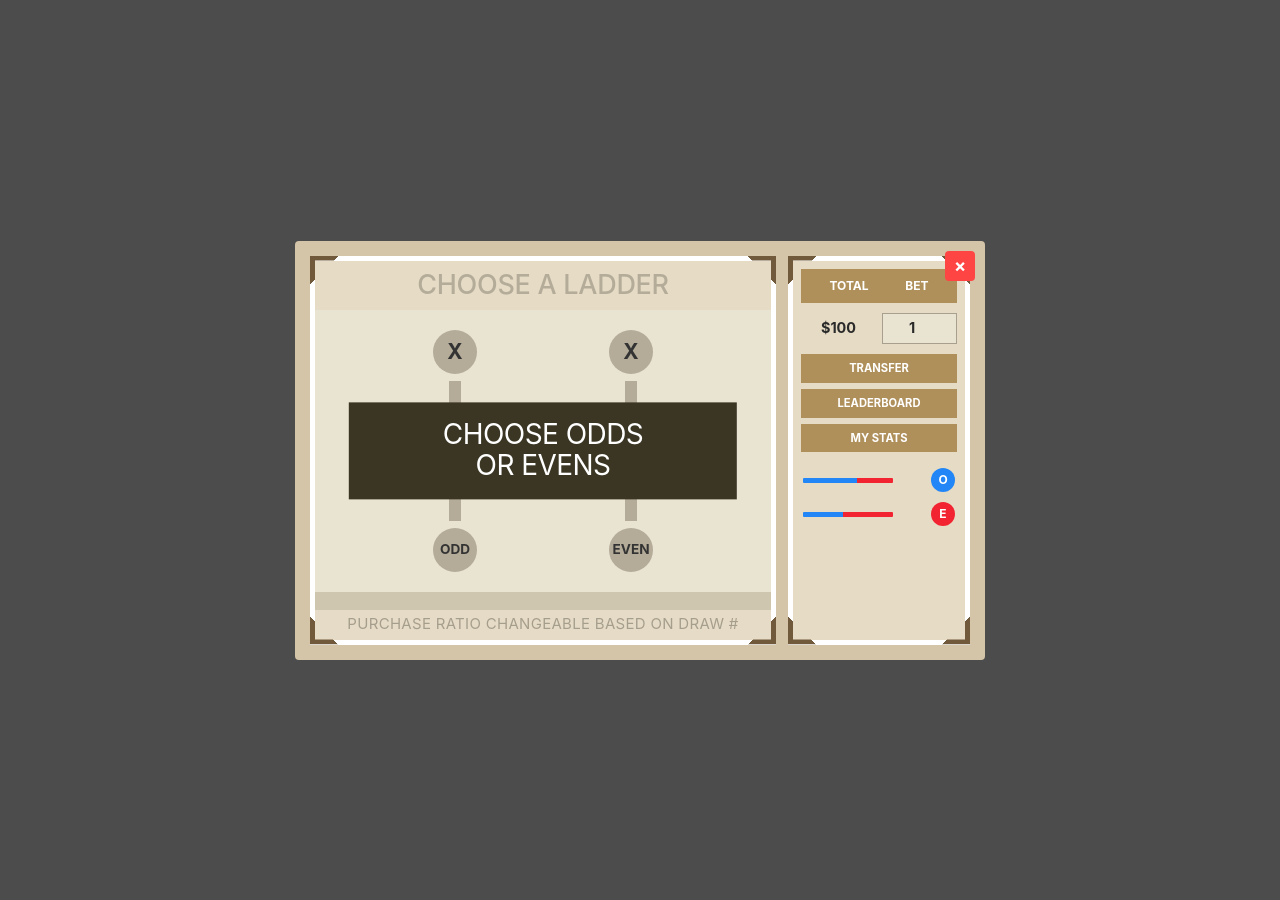
Scenario: LadderGame › stats modal shows games, win rate, and streaks
Step 1. Click the button "My Stats" → [879, 438], box [801,424,957,452]
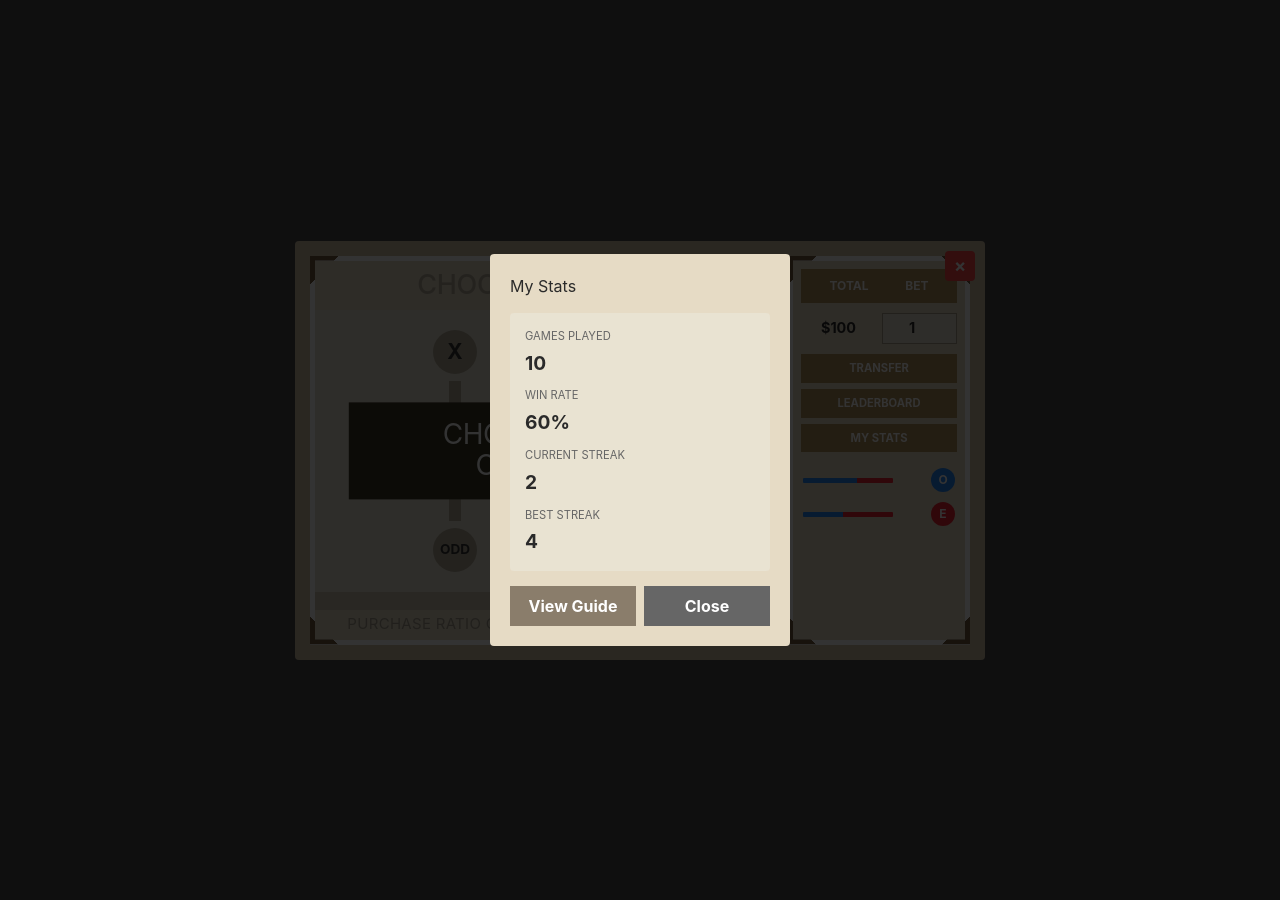
Result: the text "Games Played" is shown at [525,329,611,343]
Result: the text "10" is shown at [525,351,546,375]
Result: the text "60%" is shown at [525,410,570,434]
